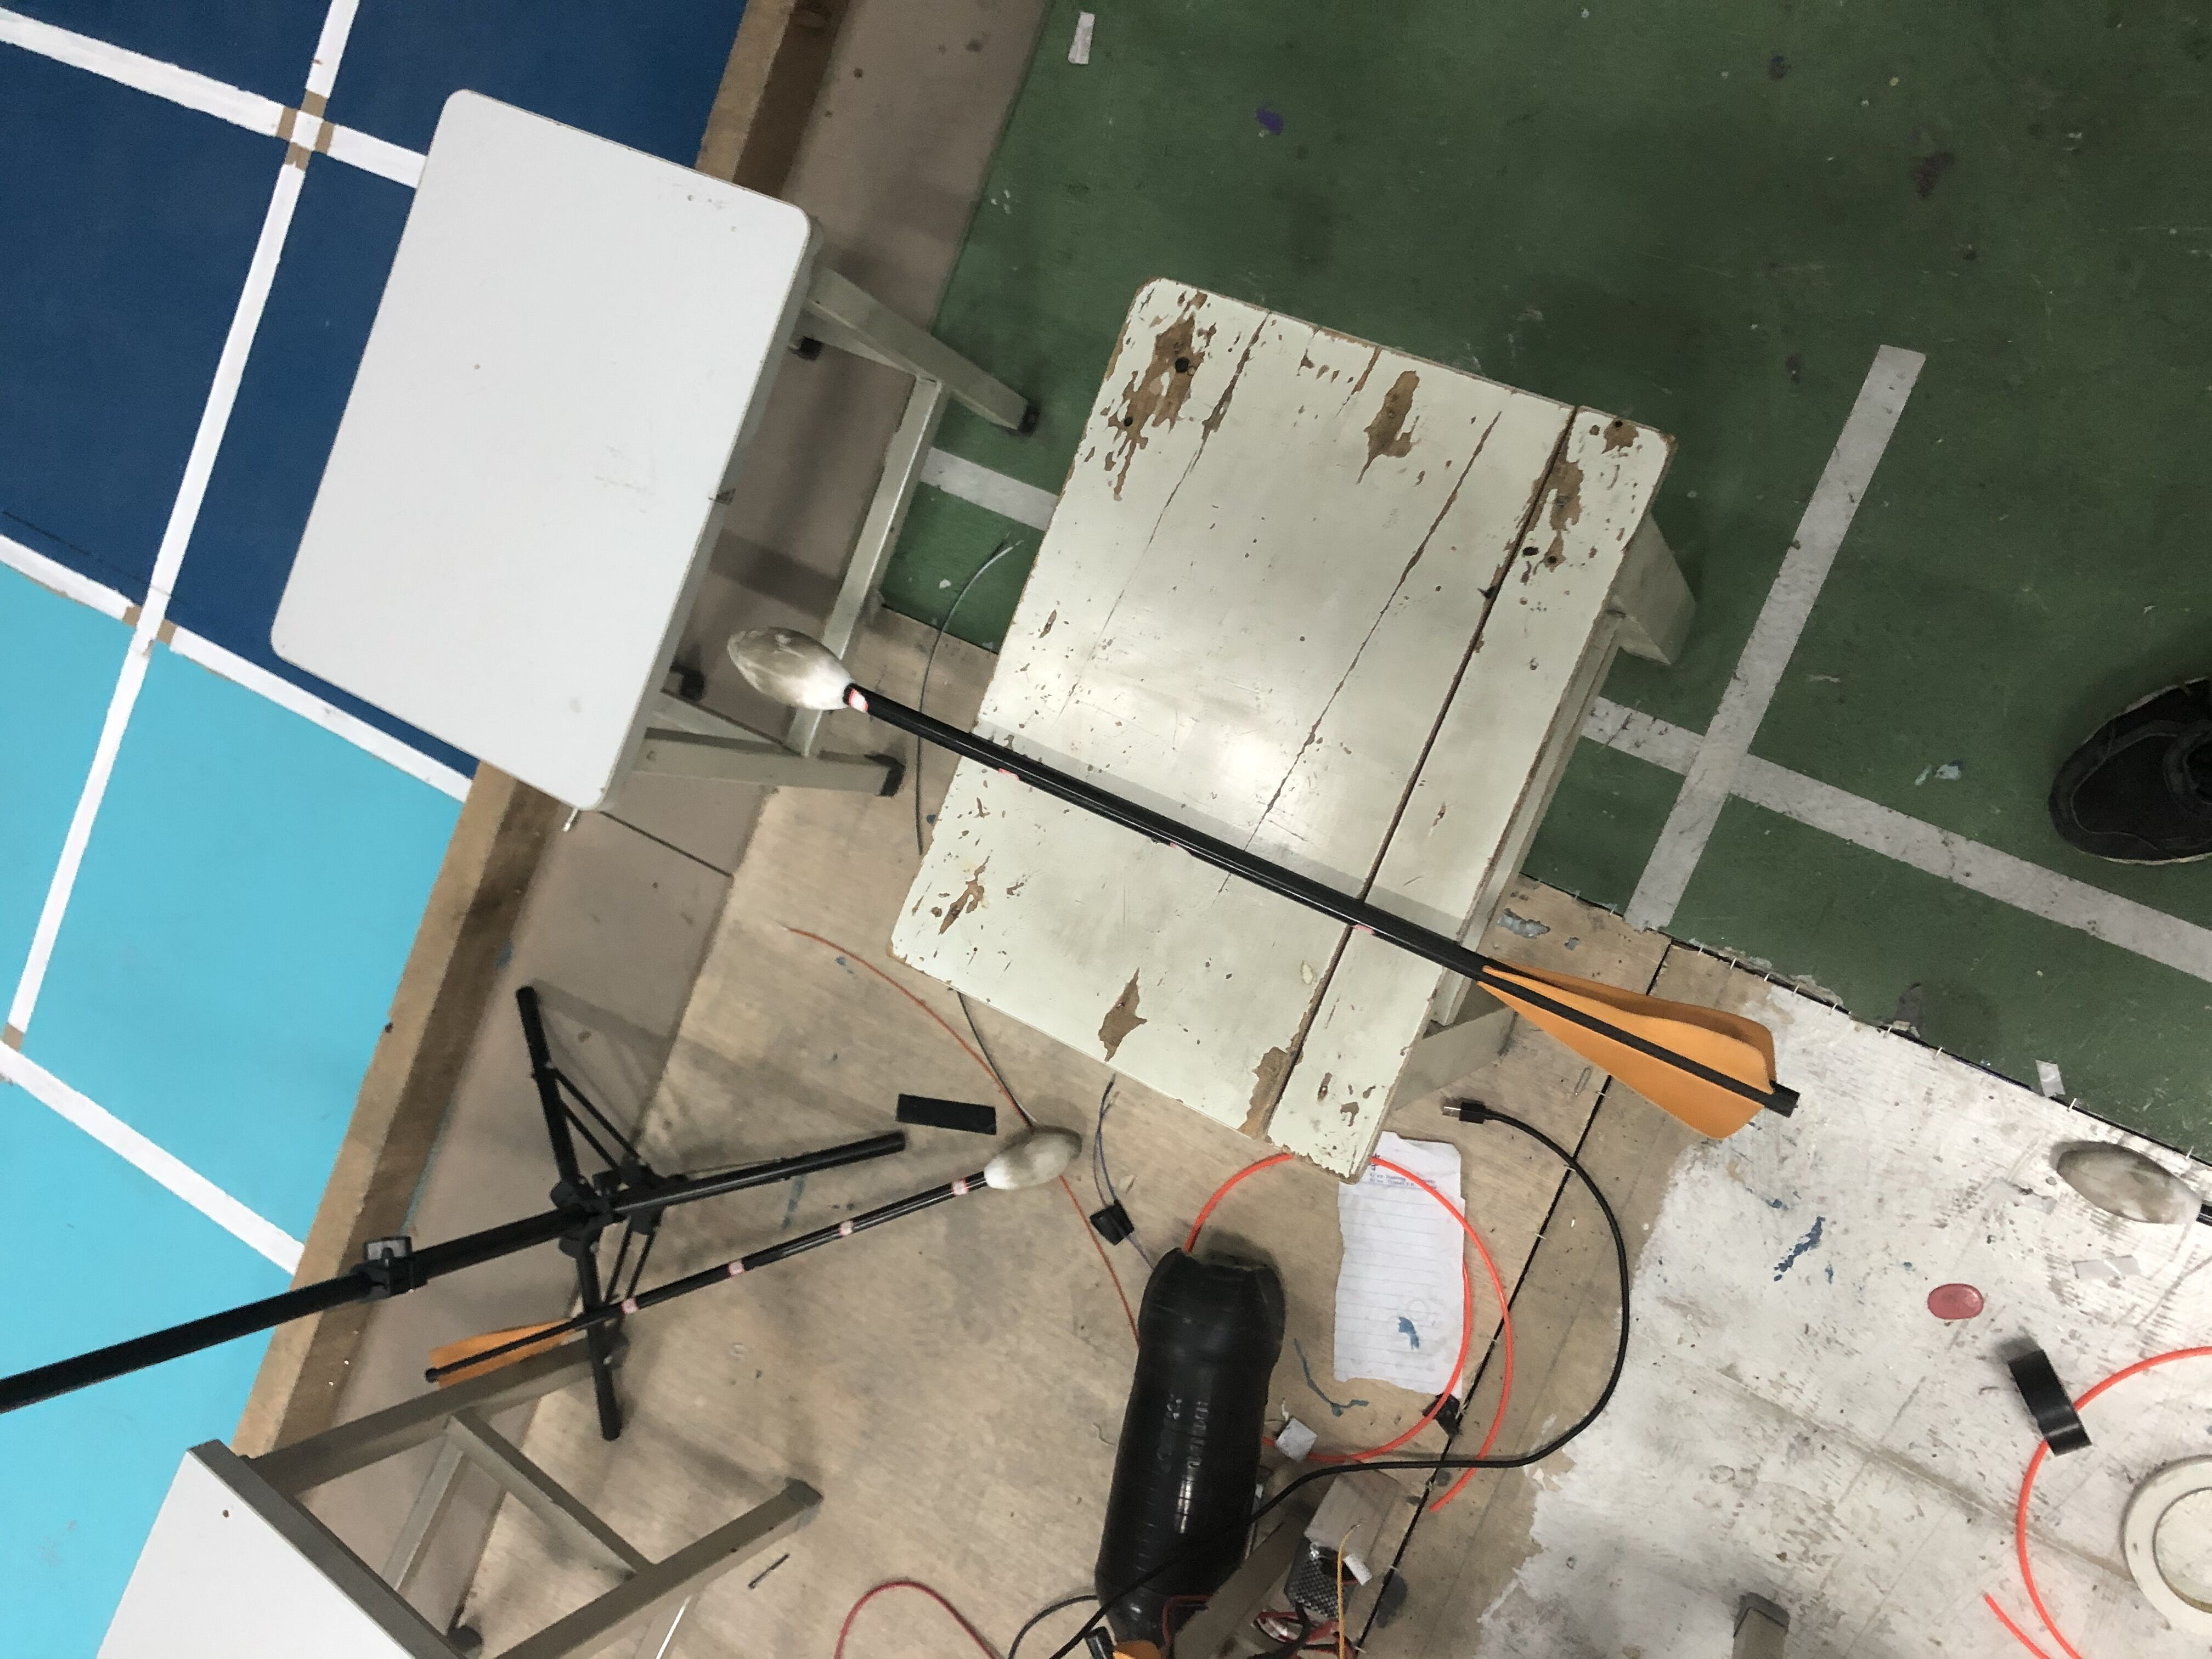arrow: (723, 627, 1801, 1140), (423, 1131, 1083, 1389)
arrowFront: (723, 622, 859, 711), (979, 1136, 1076, 1194)
